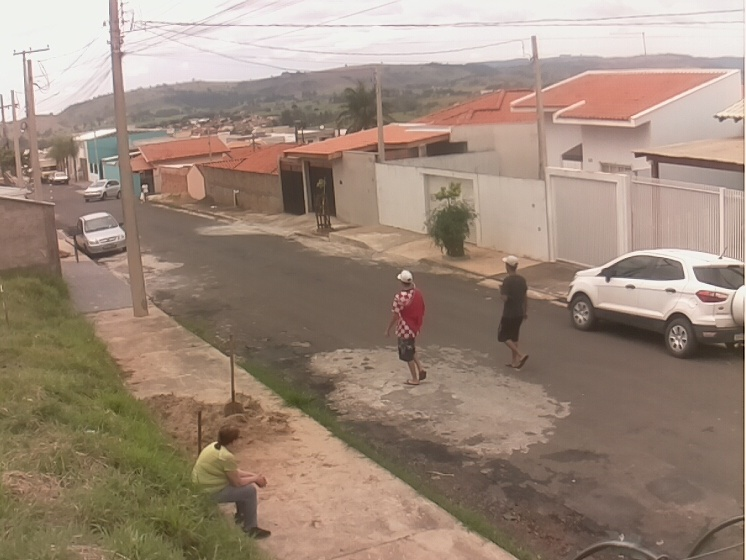person: (190, 424, 272, 539), (385, 270, 427, 384), (496, 255, 529, 369)
